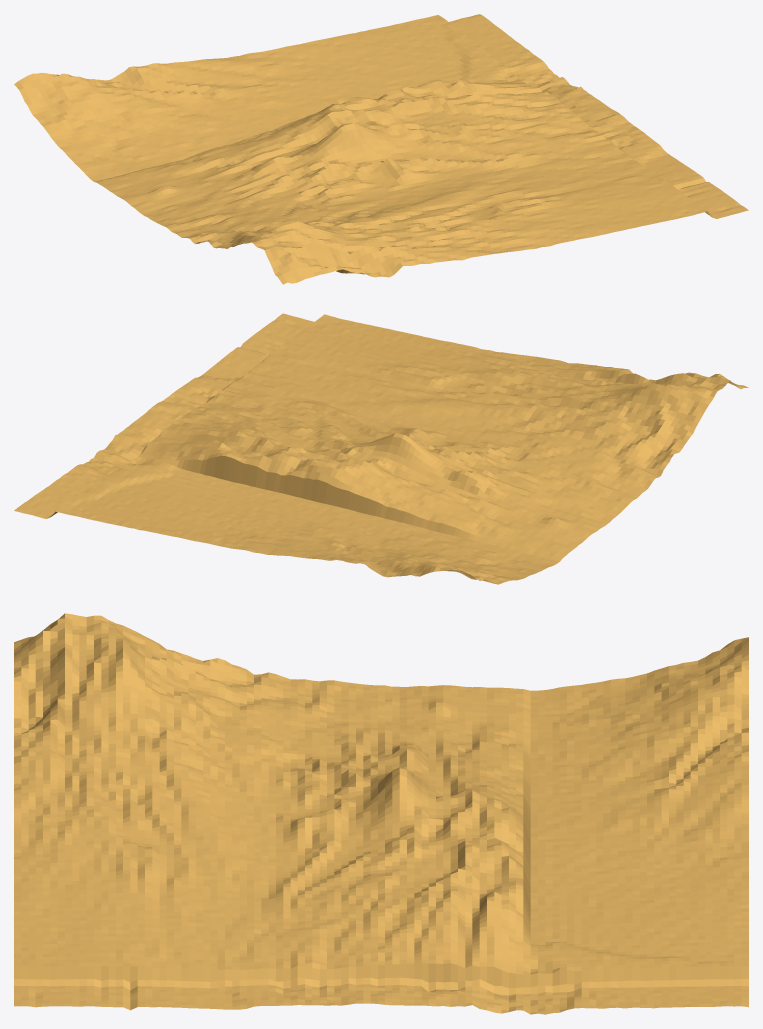
3 views of the same model, one above another, from view 1: azimuth 30°, elevation 25°; view 2: azimuth 150°, elevation 25°; view 3: azimuth 270°, elevation 25° (orthographic). The views are drawn at different scales.
Visible parts, largest first — view 1: Plane; view 2: Plane; view 3: Plane.
Part boxes in pixels (x1=…): Plane: x1=14, y1=14, x2=748, y2=284; Plane: x1=14, y1=313, x2=748, y2=584; Plane: x1=14, y1=613, x2=748, y2=1014.
Bounding box in the file's own units: 500 × 70.56 × 500.
